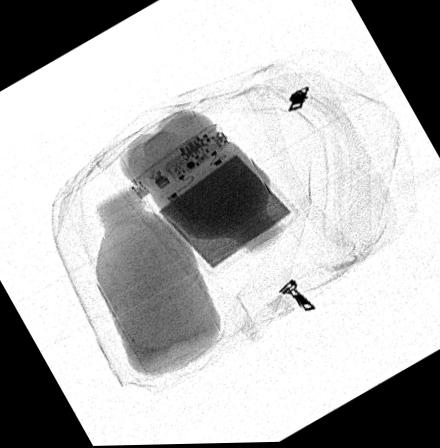Powerbank: (126, 123, 296, 273)
